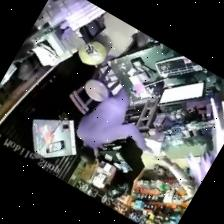person: (77, 87, 153, 164), (105, 160, 144, 198), (163, 157, 198, 197)
